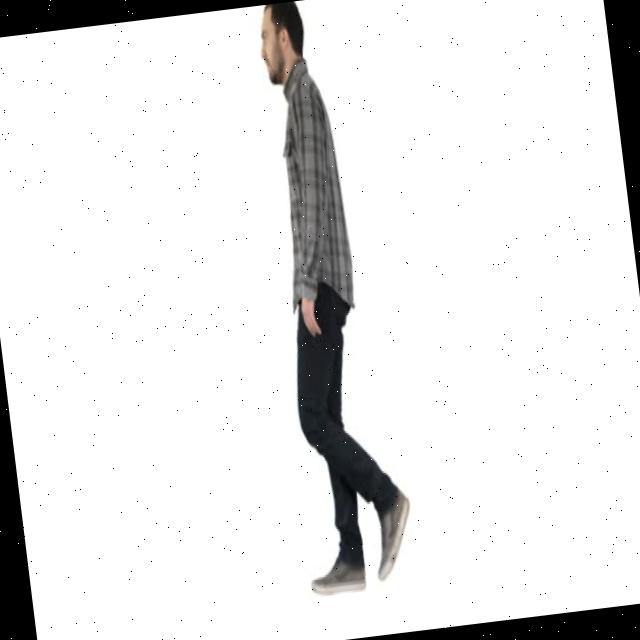Person: (238, 0, 418, 595)
